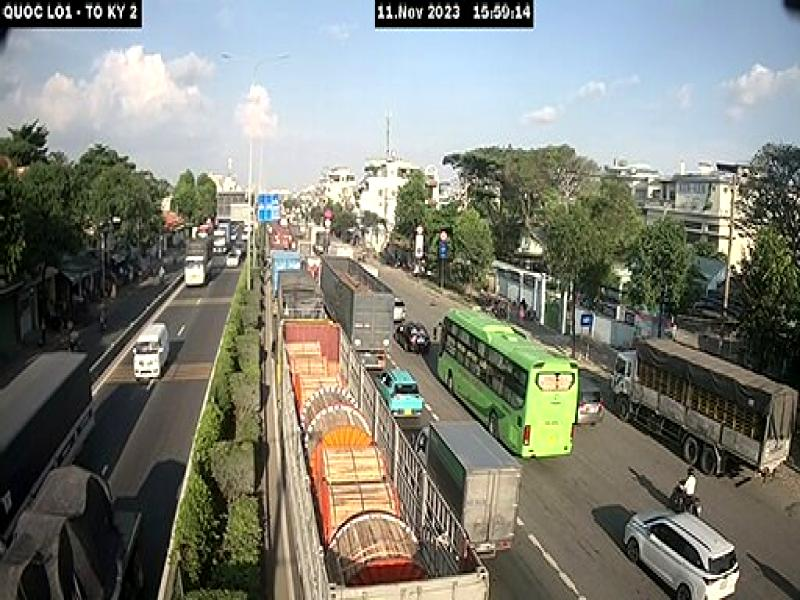bus: (438, 306, 578, 461)
truck: (611, 337, 797, 478), (0, 345, 94, 555), (414, 420, 521, 566)
